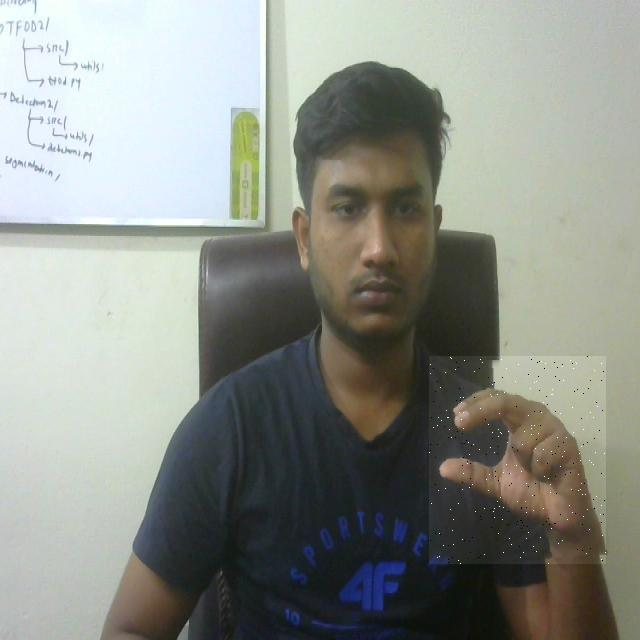No: (429, 356, 606, 564)
